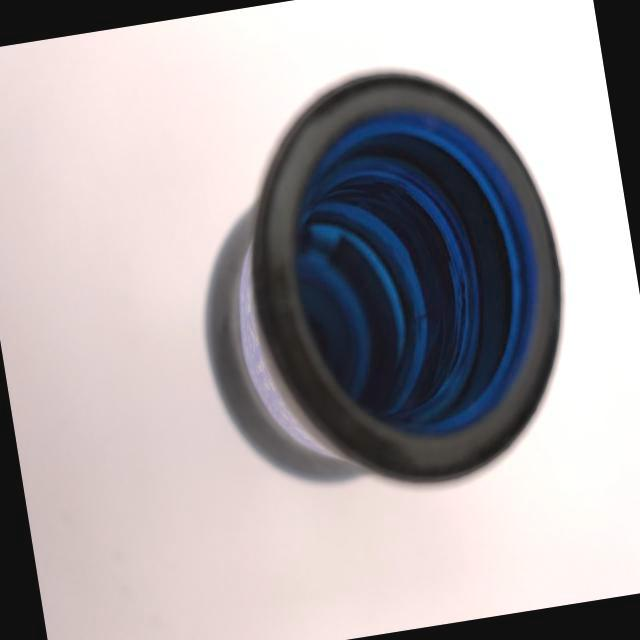glass: (159, 31, 609, 536)
